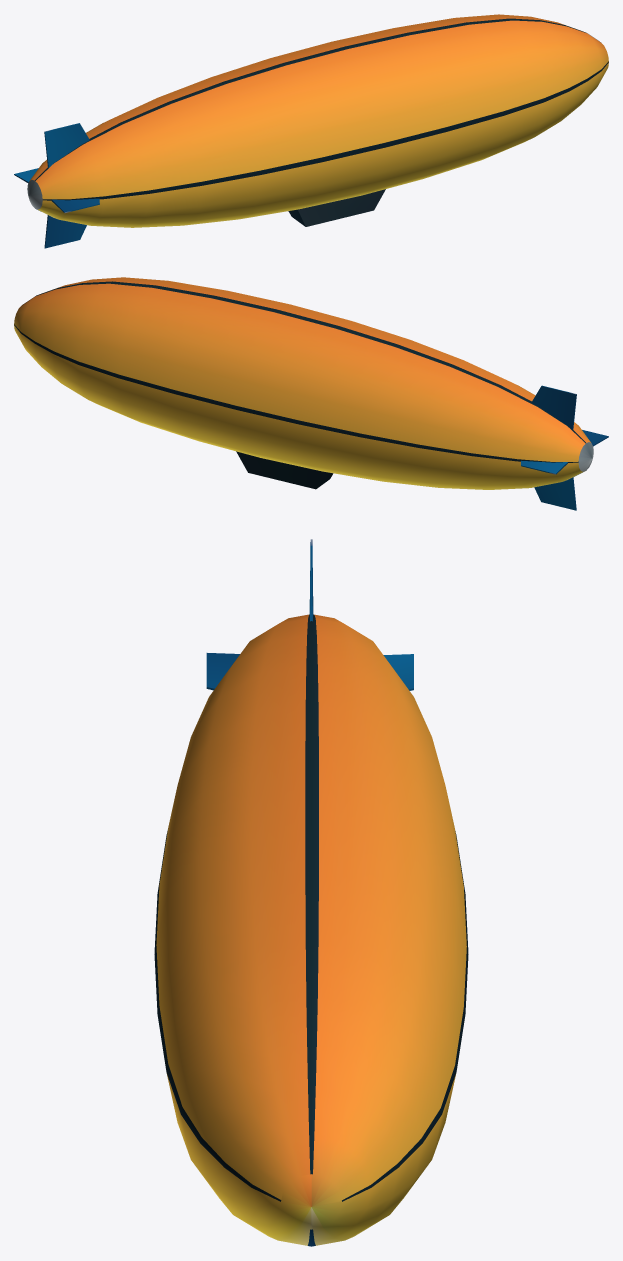
File: Asset_Blimp.glb
3 renders of one model, top to bottom at view 1: azimuth 30°, elevation 25°; view 2: azimuth 150°, elevation 25°; view 3: azimuth 270°, elevation 25°, orthographic. The views are drawn at different scales.
Visible parts, largest first — view 1: Mesh.015; view 2: Mesh.015; view 3: Mesh.015.
Boxes of the visible parts, <box> form: Mesh.015: <box>14,14,608,248</box>; Mesh.015: <box>14,277,608,510</box>; Mesh.015: <box>154,539,468,1246</box>.
Size of what is drawn, in the model's own units: 46.66 by 12.59 by 11.02.
Materials: 1 (1 with a texture image).
